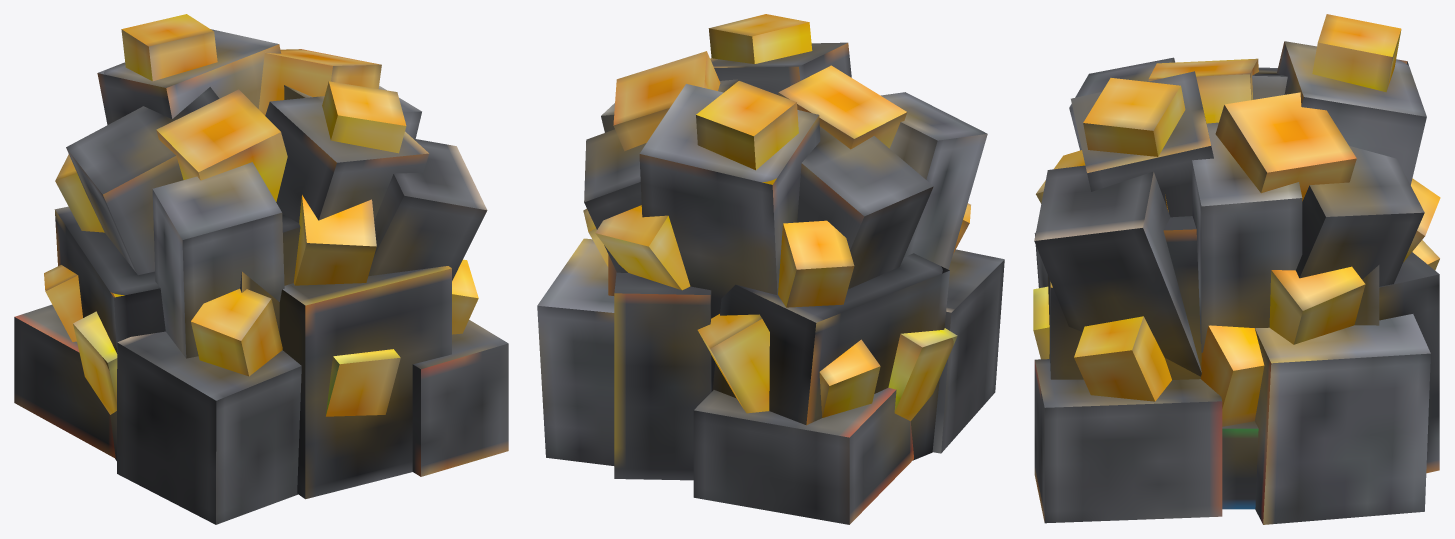
The model's file is SM_Gold_Ore_01_a.fbx.
The picture shows the model from 3 angles, left to right: view 1: azimuth 30°, elevation 25°; view 2: azimuth 150°, elevation 25°; view 3: azimuth 270°, elevation 25°; orthographic projection. The views are drawn at different scales.
Visible parts, largest first — view 1: Gold; view 2: Gold; view 3: Gold.
Boxes of the visible parts, box(x1,y1,x2,y2) form: Gold: box(14, 14, 508, 524); Gold: box(537, 14, 1004, 524); Gold: box(1033, 14, 1440, 524).
Bounding box in the file's own units: 102 × 107 × 100.
Materials: 1 (1 with a texture image).
